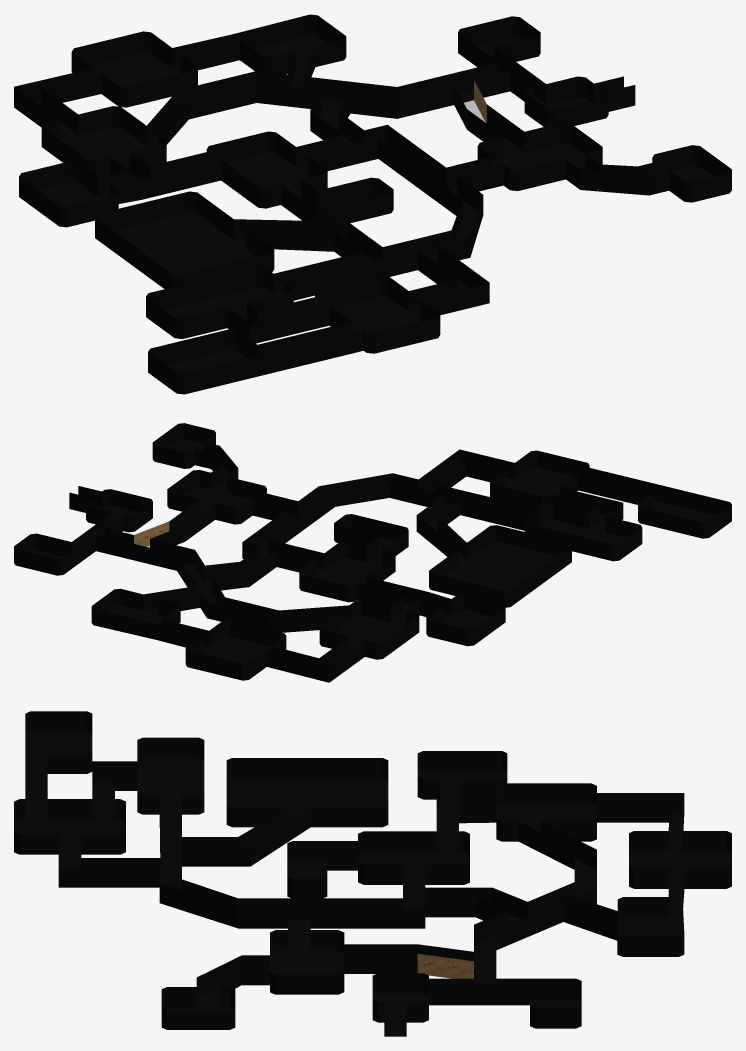
File: CaveMapFinObj.obj
The picture shows the model from 3 angles, top to bottom: view 1: azimuth 30°, elevation 25°; view 2: azimuth 150°, elevation 25°; view 3: azimuth 270°, elevation 25°; orthographic projection. The views are drawn at different scales.
Parts seen in each view (by area): view 1: initialShadingGroup Walls Walls_Halls Walls_H_4, initialShadingGroup Walls Walls_Halls Walls_H_2, initialShadingGroup Walls Walls_Halls Walls_H_3, initialShadingGroup Walls Walls_Halls Walls_H_1, initialShadingGroup Walls_Rooms Walls Walls_R_14, initialShadingGroup Walls Walls_Halls Walls_H_5, initialShadingGroup Ground_Rooms Ground Ground_R_9, initialShadingGroup Walls_Rooms Walls Walls_R_12, initialShadingGroup Walls_Rooms Walls Walls_R_13, initialShadingGroup Walls_Rooms Walls Walls_R_6, initialShadingGroup Walls_Rooms Walls Walls_R_11, initialShadingGroup Walls Walls_Halls Walls_H_6 (+23 smaller); view 2: initialShadingGroup Walls Walls_Halls Walls_H_4, initialShadingGroup Walls Walls_Halls Walls_H_2, initialShadingGroup Walls Walls_Halls Walls_H_3, initialShadingGroup Walls Walls_Halls Walls_H_1, initialShadingGroup Walls_Rooms Walls Walls_R_14, initialShadingGroup Walls Walls_Halls Walls_H_5, initialShadingGroup Ground_Rooms Ground Ground_R_9, initialShadingGroup Walls_Rooms Walls Walls_R_12, initialShadingGroup Walls_Rooms Walls Walls_R_6, initialShadingGroup Walls_Rooms Walls Walls_R_13, initialShadingGroup Walls_Rooms Walls Walls_R_8, initialShadingGroup Walls_Rooms Walls Walls_R_11 (+23 smaller); view 3: initialShadingGroup Walls Walls_Halls Walls_H_2, initialShadingGroup Walls Walls_Halls Walls_H_3, initialShadingGroup Walls Walls_Halls Walls_H_4, initialShadingGroup Walls_Rooms Walls Walls_R_14, initialShadingGroup Walls Walls_Halls Walls_H_1, initialShadingGroup Ground_Rooms Ground Ground_R_9, initialShadingGroup Walls_Rooms Walls Walls_R_8, initialShadingGroup Walls_Rooms Walls Walls_R_6, initialShadingGroup Walls_Rooms Walls Walls_R_7, initialShadingGroup Walls_Rooms Walls Walls_R_11, initialShadingGroup Ground_Rooms Ground Ground_R_12, initialShadingGroup Walls_Rooms Walls Walls_R_10 (+29 smaller).
Part boxes in pixels (<box>): initialShadingGroup Walls Walls_Halls Walls_H_4: <box>234,219,489,315</box>; initialShadingGroup Walls Walls_Halls Walls_H_2: <box>146,47,397,145</box>; initialShadingGroup Walls Walls_Halls Walls_H_3: <box>296,124,503,256</box>; initialShadingGroup Walls Walls_Halls Walls_H_1: <box>397,46,546,151</box>; initialShadingGroup Walls_Rooms Walls Walls_R_14: <box>95,191,274,288</box>; initialShadingGroup Walls Walls_Halls Walls_H_5: <box>227,296,363,373</box>; initialShadingGroup Ground_Rooms Ground Ground_R_9: <box>113,212,255,274</box>; initialShadingGroup Walls_Rooms Walls Walls_R_12: <box>146,266,293,338</box>; initialShadingGroup Walls_Rooms Walls Walls_R_13: <box>148,329,268,394</box>; initialShadingGroup Walls_Rooms Walls Walls_R_6: <box>71,31,197,107</box>; initialShadingGroup Walls_Rooms Walls Walls_R_11: <box>315,275,440,353</box>; initialShadingGroup Walls Walls_Halls Walls_H_6: <box>98,151,220,203</box>; initialShadingGroup Walls Walls_Halls Walls_H_4: <box>389,449,540,558</box>; initialShadingGroup Walls Walls_Halls Walls_H_2: <box>143,547,349,632</box>; initialShadingGroup Walls Walls_Halls Walls_H_3: <box>242,473,392,572</box>; initialShadingGroup Walls Walls_Halls Walls_H_1: <box>71,500,215,570</box>; initialShadingGroup Walls_Rooms Walls Walls_R_14: <box>429,525,571,607</box>; initialShadingGroup Walls Walls_Halls Walls_H_5: <box>551,467,662,528</box>; initialShadingGroup Ground_Rooms Ground Ground_R_9: <box>444,541,556,591</box>; initialShadingGroup Walls_Rooms Walls Walls_R_12: <box>524,503,642,561</box>; initialShadingGroup Walls_Rooms Walls Walls_R_6: <box>185,620,286,680</box>; initialShadingGroup Walls_Rooms Walls Walls_R_13: <box>638,485,731,538</box>; initialShadingGroup Walls_Rooms Walls Walls_R_8: <box>299,541,395,602</box>; initialShadingGroup Walls_Rooms Walls Walls_R_11: <box>490,450,589,509</box>; initialShadingGroup Walls Walls_Halls Walls_H_2: <box>425,821,617,950</box>; initialShadingGroup Walls Walls_Halls Walls_H_3: <box>159,879,425,928</box>; initialShadingGroup Walls Walls_Halls Walls_H_4: <box>58,807,310,887</box>; initialShadingGroup Walls_Rooms Walls Walls_R_14: <box>226,758,388,827</box>; initialShadingGroup Walls Walls_Halls Walls_H_1: <box>344,944,529,1005</box>; initialShadingGroup Ground_Rooms Ground Ground_R_9: <box>226,778,388,820</box>; initialShadingGroup Walls_Rooms Walls Walls_R_8: <box>358,831,469,884</box>; initialShadingGroup Walls_Rooms Walls Walls_R_6: <box>629,831,731,888</box>; initialShadingGroup Walls_Rooms Walls Walls_R_7: <box>496,783,596,841</box>; initialShadingGroup Walls_Rooms Walls Walls_R_11: <box>14,799,125,854</box>; initialShadingGroup Ground_Rooms Ground Ground_R_12: <box>137,758,204,814</box>; initialShadingGroup Walls_Rooms Walls Walls_R_10: <box>417,751,507,799</box>.
Bounding box in the file's own units: 64.47 × 2 × 64.08.
